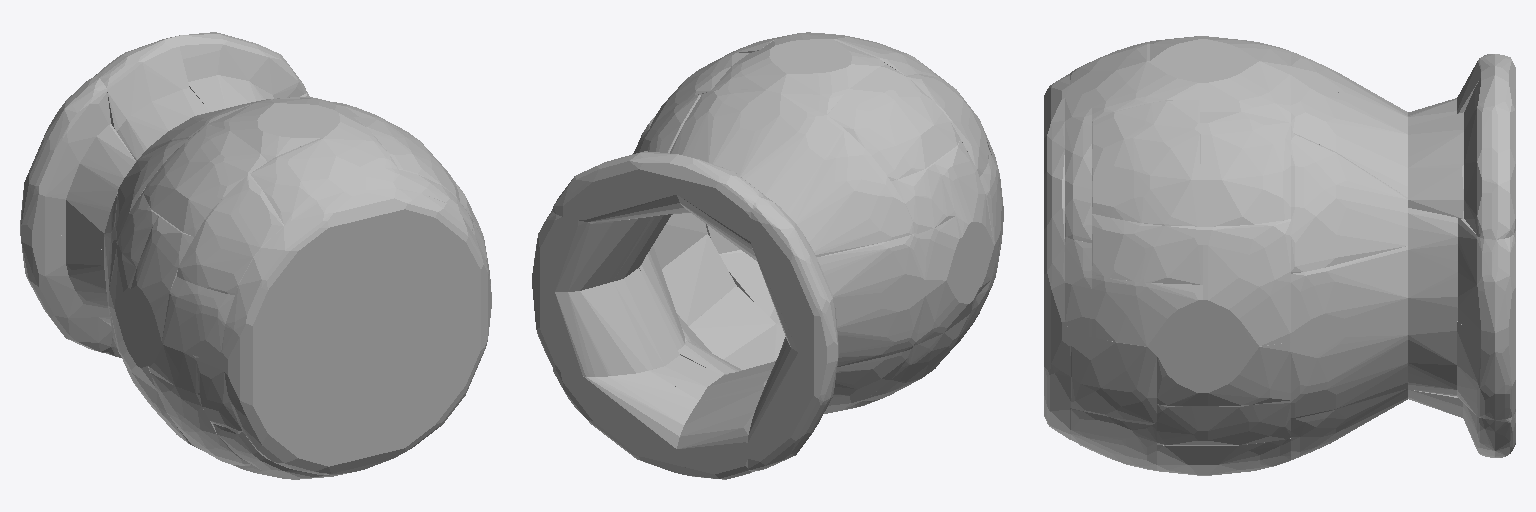
URDF robot description (root):
<?xml version="1.0"?>
<robot name="root">
  <link name="base_link">
    <visual>
      <origin xyz="0 0 0" rpy="0 0 0" />
      <geometry>
        <mesh filename="../meshes/unidex_core_jar-7a971531ff72a48d5706d1c54190f27a_006.obj" scale="1.0000E+00 1.0000E+00 1.0000E+00" />
      </geometry>
      <material name="">
        <color rgba="7.50E-01 7.50E-01 7.50E-01 1" />
      </material>
    </visual>
    <collision>
      <origin xyz="0 0 0" rpy="0 0 0" />
      <geometry>
        <mesh filename="../meshes/unidex_core_jar-7a971531ff72a48d5706d1c54190f27a_006.obj" scale="1.0000E+00 1.0000E+00 1.0000E+00" />
      </geometry>
    </collision>
  </link>
</robot>

--- Facts derived from the render (not from the file) ---
3 views of the same robot in one strip: view 1: azimuth 30°, elevation 25°; view 2: azimuth 150°, elevation 25°; view 3: azimuth 270°, elevation 25° (orthographic).
Model root with 1 links and 0 joints (none), rooted at base_link, posed all joints at 0.
Links seen in each view (by area): view 1: base_link; view 2: base_link; view 3: base_link.
Boxes of the visible links, <box> form: base_link: <box>20,32,491,479</box>; base_link: <box>532,32,1003,479</box>; base_link: <box>1044,36,1515,475</box>.
Size in the robot's own frame: 0.0841 by 0.0922 by 0.0841 metres.
Meshes: 1 distinct files referenced, 1 mesh visuals loaded (1 OBJ).
